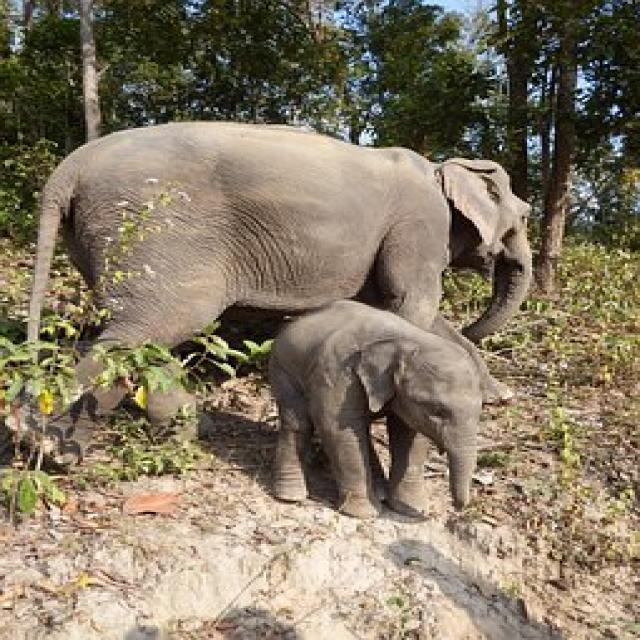Elephant: (3, 73, 568, 440), (237, 292, 604, 512)
